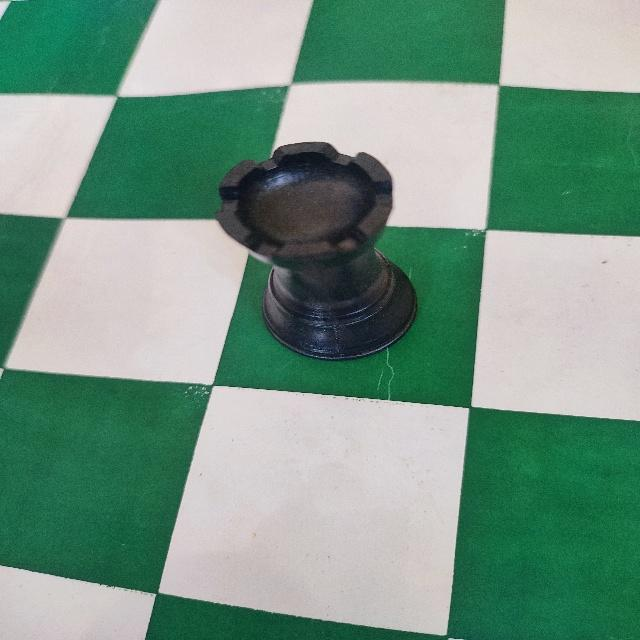Rook: (202, 136, 433, 363)
